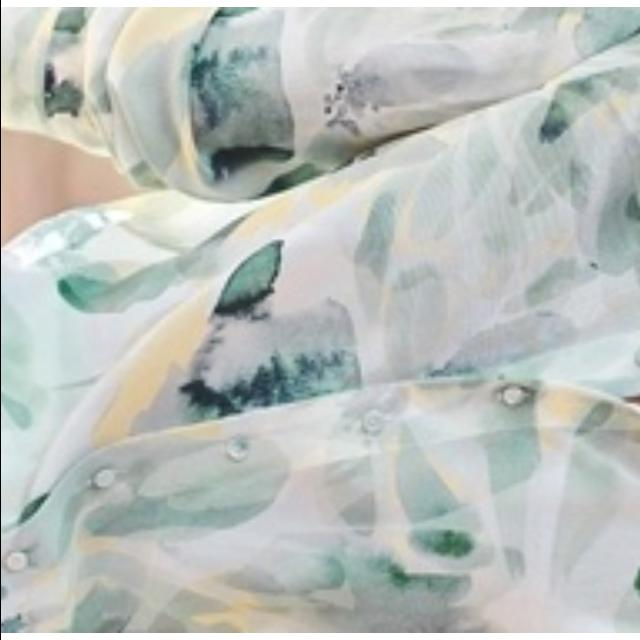silk: (0, 7, 640, 633)
